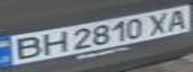0: (124, 16, 148, 39)
1: (109, 19, 130, 43)
2: (69, 25, 93, 52)
8: (90, 21, 112, 47)
A: (163, 7, 193, 32)
B: (6, 34, 48, 61)
H: (36, 29, 72, 56)
Y: (145, 10, 175, 35)
